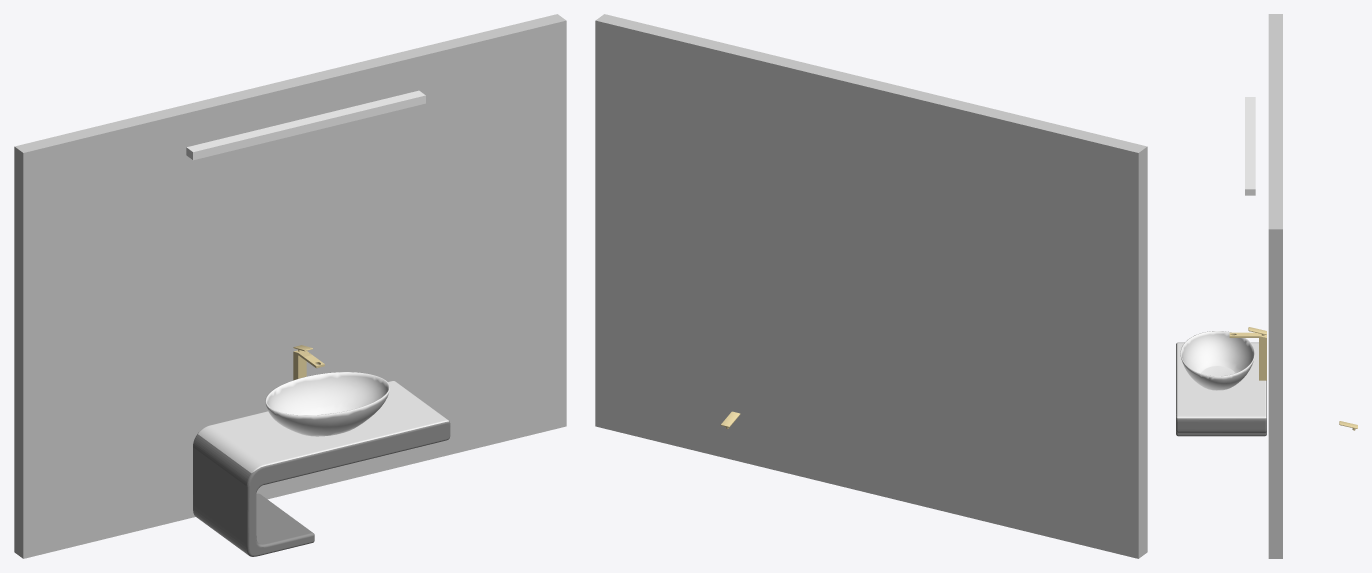
Rendered from model-e-vanity.glb.
3 views of the same model, side by side, from view 1: azimuth 30°, elevation 25°; view 2: azimuth 150°, elevation 25°; view 3: azimuth 270°, elevation 25° (orthographic). The views are drawn at different scales.
Parts seen in each view (by area): view 1: vanity_backwall__backWall, vanity_countertop__counterTop, vanity_frontpanel__frontPanel, basin_vessel_main, vanity_sidereturns__sideReturns, vanity_light; view 2: vanity_backwall__backWall; view 3: vanity_backwall__backWall, vanity_countertop__counterTop, basin_vessel_main, vanity_sidereturns__sideReturns, vanity_light, faucet_Plane.040.
Part boxes in pixels (box(x1,y1,x2,y2)): vanity_backwall__backWall: box(14, 14, 566, 558); vanity_countertop__counterTop: box(198, 381, 448, 473); vanity_frontpanel__frontPanel: box(250, 423, 448, 555); basin_vessel_main: box(265, 372, 390, 436); vanity_sidereturns__sideReturns: box(193, 421, 450, 556); vanity_light: box(186, 90, 425, 160); vanity_backwall__backWall: box(595, 14, 1147, 558); vanity_backwall__backWall: box(1268, 14, 1282, 558); vanity_countertop__counterTop: box(1176, 342, 1266, 418); basin_vessel_main: box(1180, 331, 1255, 390); vanity_sidereturns__sideReturns: box(1176, 343, 1266, 435); vanity_light: box(1245, 97, 1255, 195); faucet_Plane.040: box(1229, 332, 1266, 380).
Size of the model in its own units: 2.8 by 2 by 0.9995.
